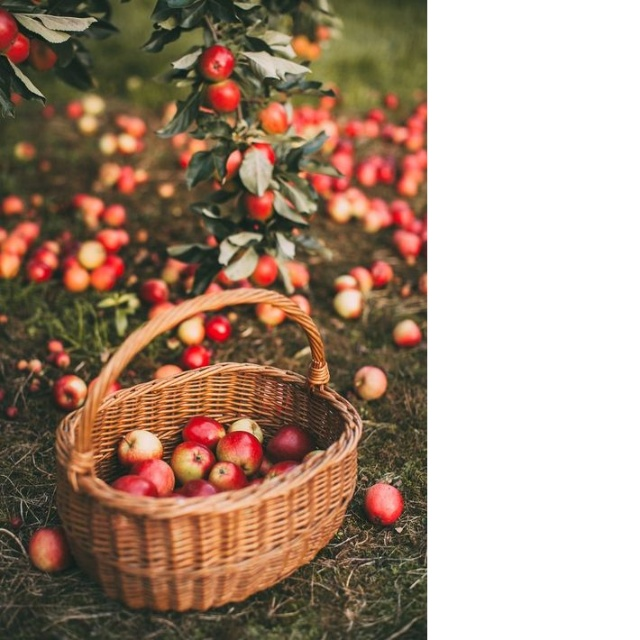sau_rieng: (23, 523, 69, 582), (359, 475, 405, 533), (114, 420, 165, 466), (223, 421, 264, 477), (44, 364, 95, 408), (351, 357, 390, 412), (199, 40, 247, 84), (184, 412, 228, 455), (203, 77, 248, 117), (388, 311, 420, 355), (181, 340, 214, 373), (205, 315, 234, 343)
